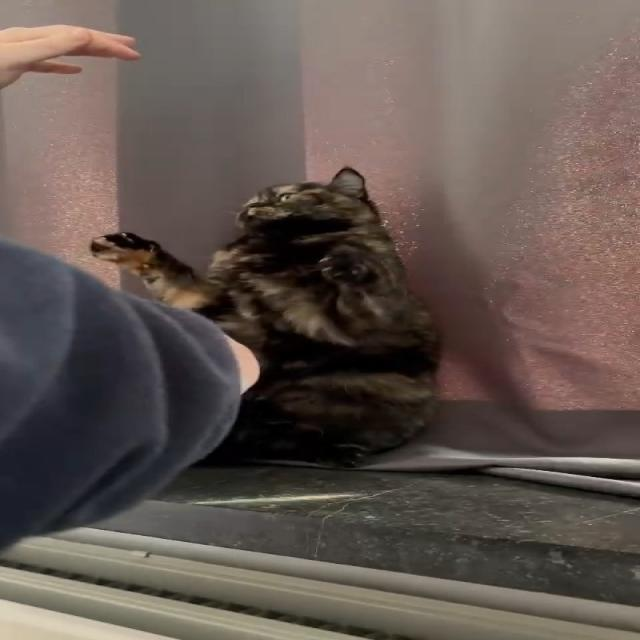authorized: (88, 165, 444, 469)
